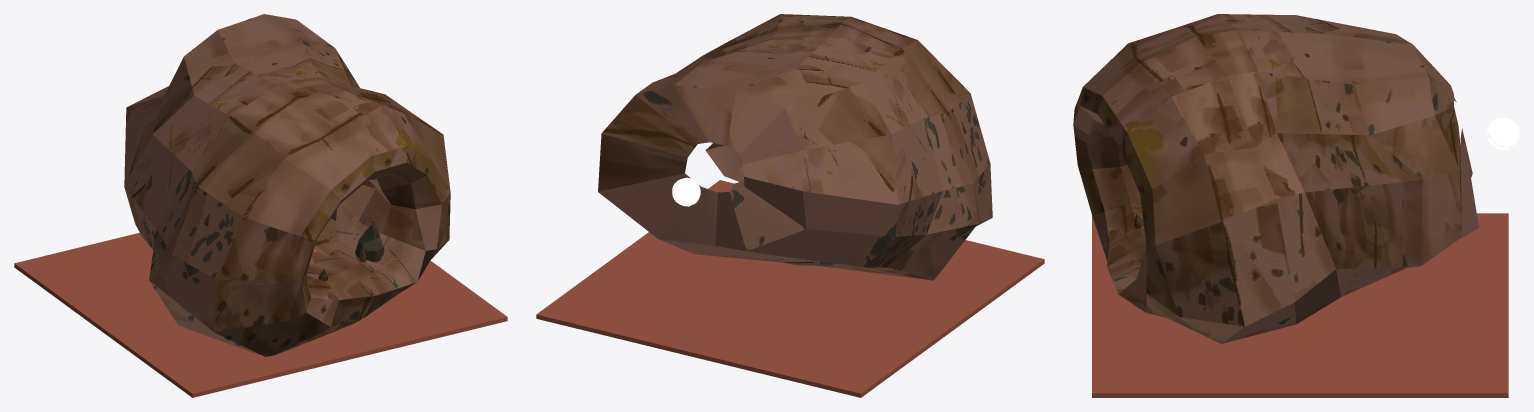
3 renders of one model, left to right at view 1: azimuth 30°, elevation 25°; view 2: azimuth 150°, elevation 25°; view 3: azimuth 270°, elevation 25°, orthographic. The views are drawn at different scales.
Visible parts, largest first — view 1: group96187052, Plane.006; view 2: group96187052, Plane.006, Luna; view 3: group96187052, Plane.006, Luna.
Boxes of the visible parts, x1,y1,x2,y2 form: group96187052: (124,14,450,356); Plane.006: (14,232,507,397); group96187052: (598,14,992,280); Plane.006: (536,180,1044,397); Luna: (672,177,700,206); group96187052: (1073,14,1478,343); Plane.006: (1092,213,1508,397); Luna: (1487,117,1519,149).
Size of the model in its own units: 9.93 by 6.86 by 10.23.
5 materials, 2 textured.
